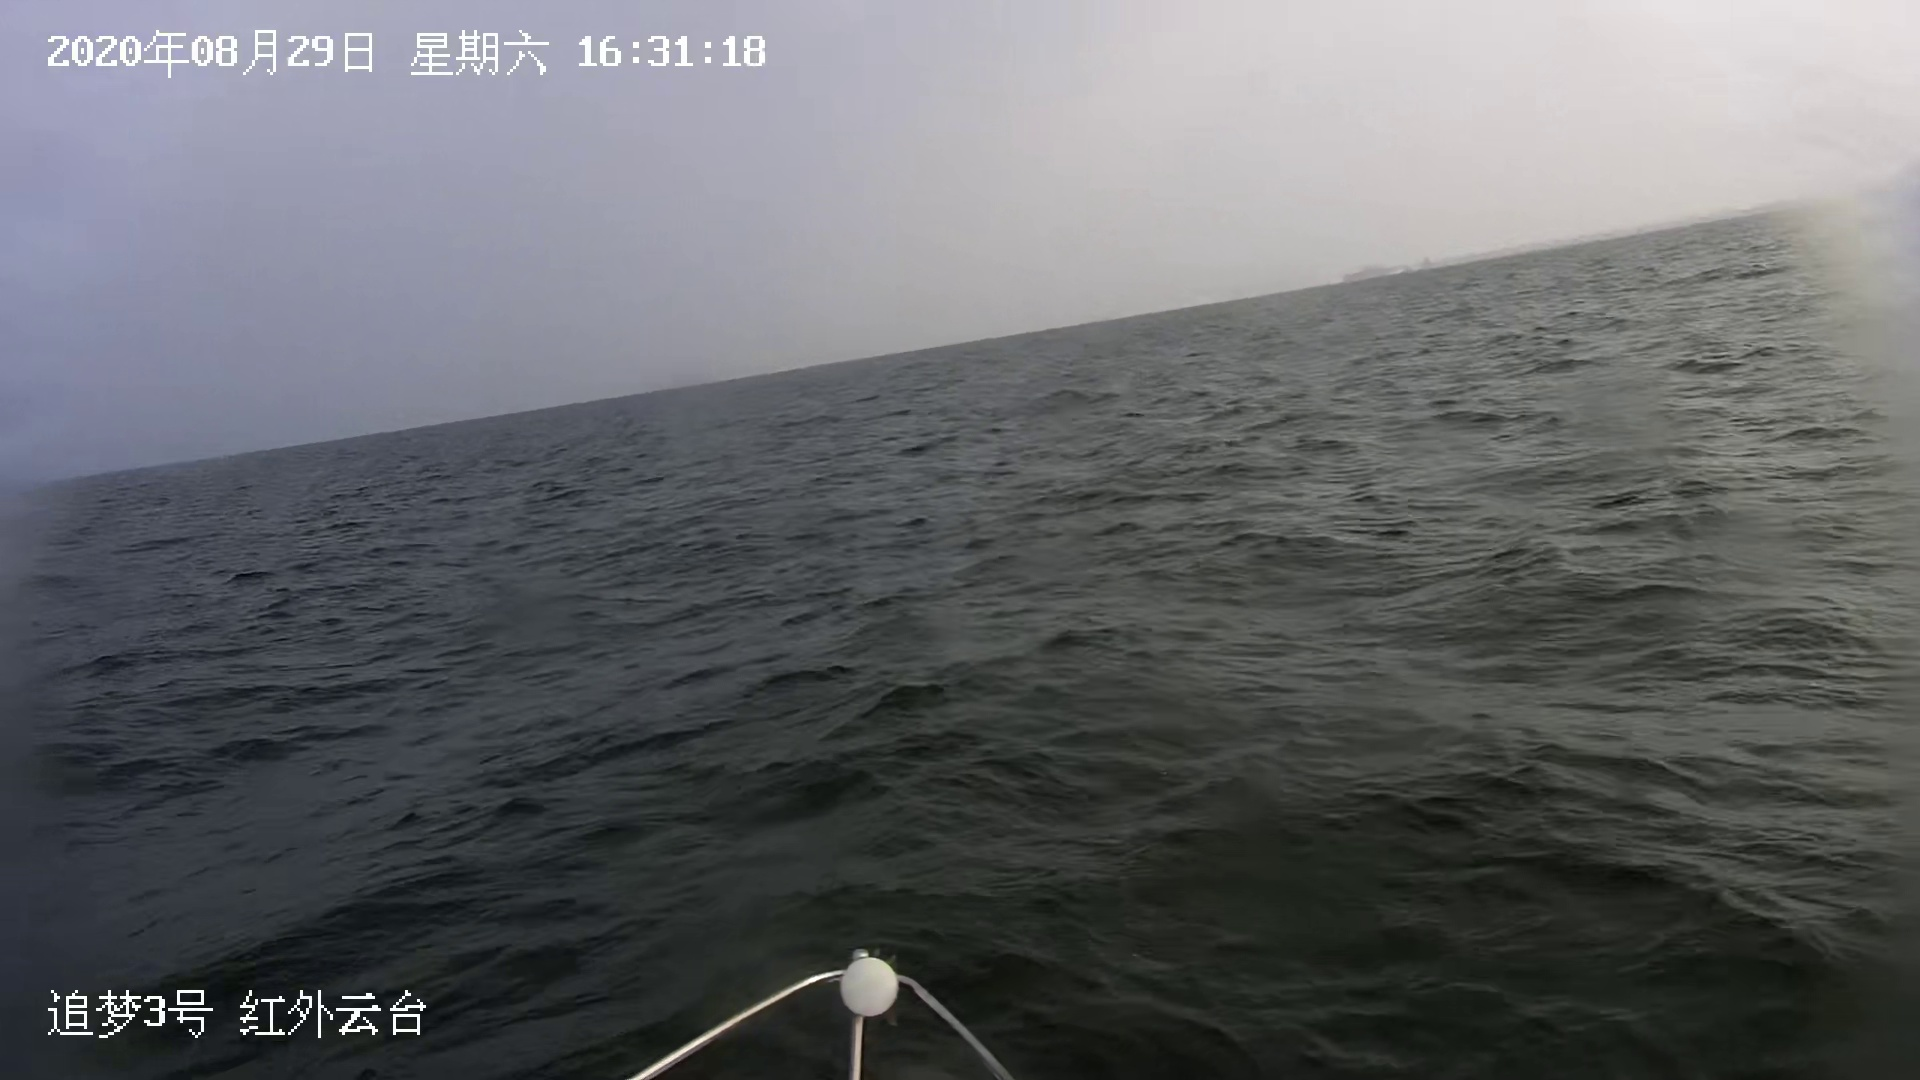coast: (1332, 179, 1920, 285)
